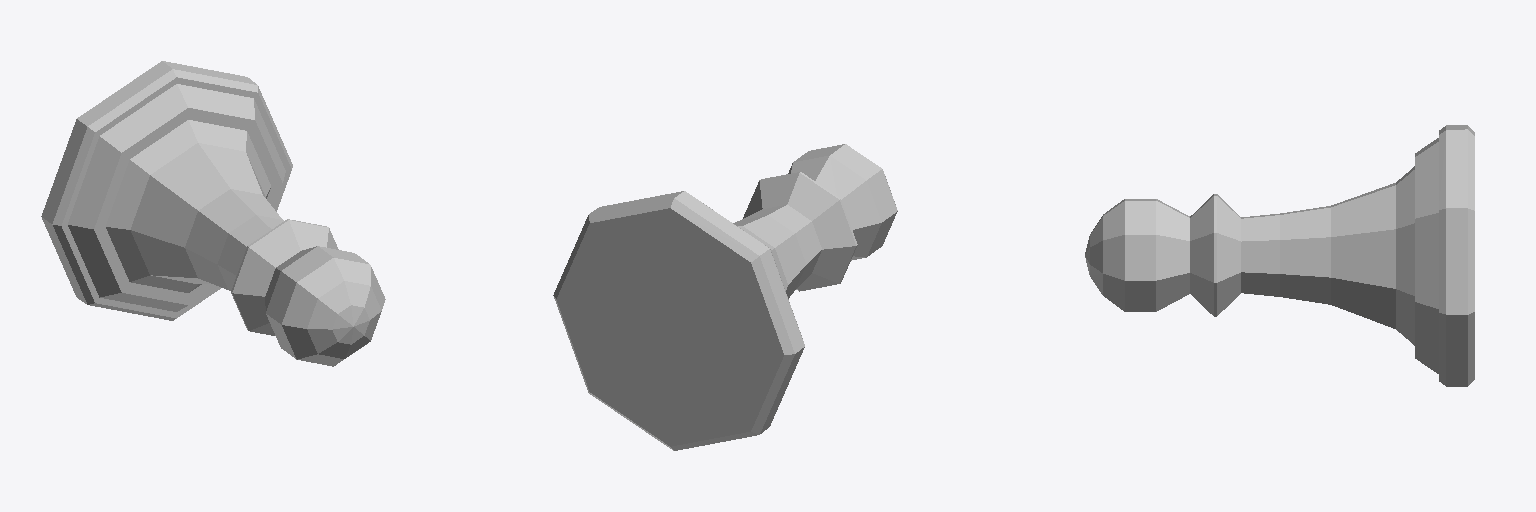
Rendered from Pawn-broken.obj.
3 views of the same model, side by side, from view 1: azimuth 30°, elevation 25°; view 2: azimuth 150°, elevation 25°; view 3: azimuth 270°, elevation 25° (orthographic).
Parts seen in each view (by area): view 1: Object.2, Object.1, Object.4, Object.3; view 2: Object.1, Object.3, Object.4, Object.2; view 3: Object.1, Object.4, Object.3, Object.2.
Boxes of the visible parts, x1,y1,x2,y2 form: Object.2: [41, 129, 264, 303]; Object.1: [43, 61, 292, 320]; Object.4: [266, 236, 385, 366]; Object.3: [209, 198, 338, 335]; Object.1: [553, 191, 793, 450]; Object.3: [733, 172, 870, 297]; Object.4: [788, 144, 897, 260]; Object.2: [737, 222, 804, 418]; Object.1: [1350, 125, 1474, 386]; Object.4: [1085, 199, 1214, 311]; Object.3: [1178, 194, 1327, 316]; Object.2: [1306, 140, 1434, 314].
Size of the model in its own units: 22.89 by 22.89 by 32.